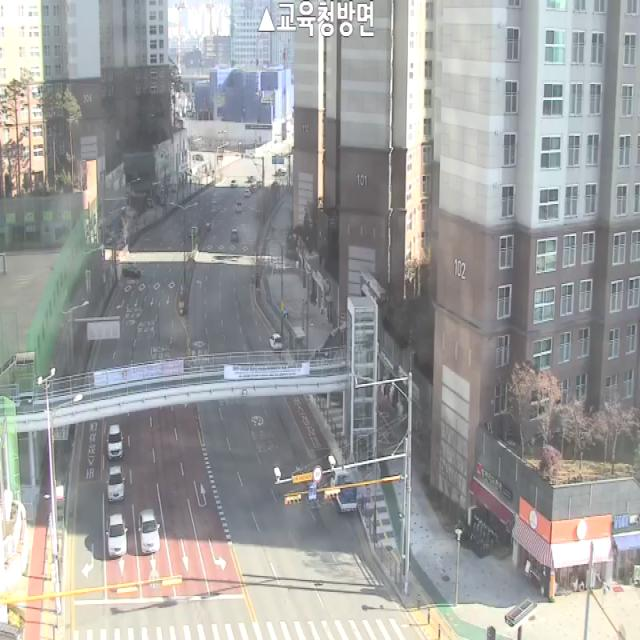Car: (106, 514, 128, 557), (138, 510, 160, 553), (106, 466, 125, 502), (106, 425, 124, 459), (122, 265, 140, 279), (270, 334, 283, 350), (231, 228, 238, 240), (235, 202, 242, 212), (230, 180, 237, 187), (244, 190, 250, 197)
Truck: (331, 469, 356, 514)
